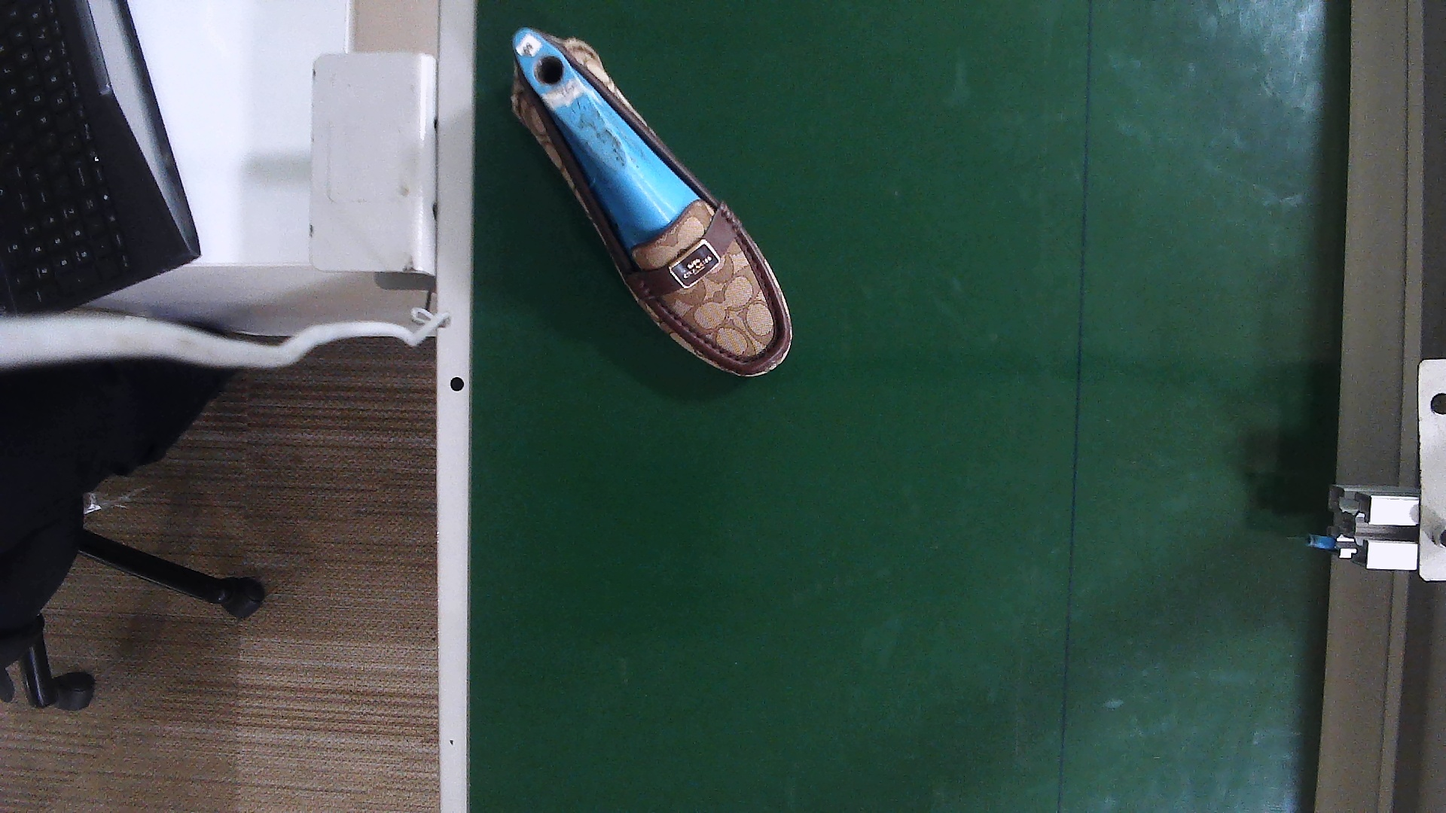shoe: (511, 32, 790, 376)
